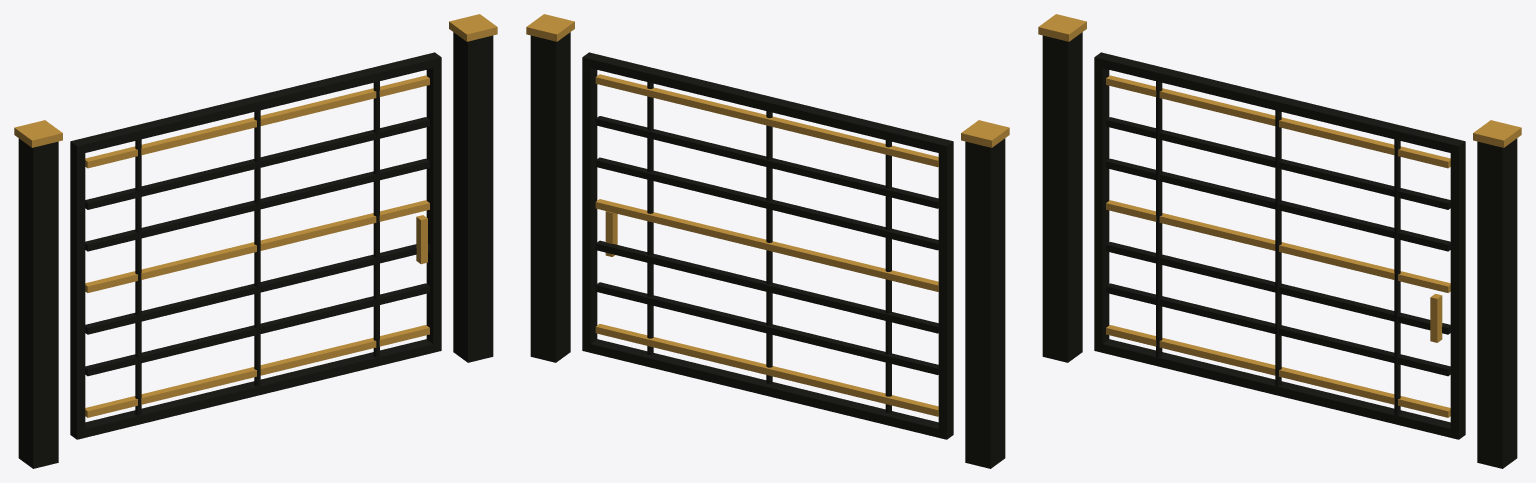
File: entrance-gate.glb
3 renders of one model, left to right at view 1: azimuth 30°, elevation 25°; view 2: azimuth 150°, elevation 25°; view 3: azimuth 330°, elevation 25°, orthographic.
Bounding box in the file's own units: 3.32 × 2.25 × 0.22.
